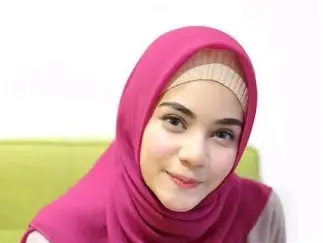kerudung_benar: (129, 28, 263, 221)
